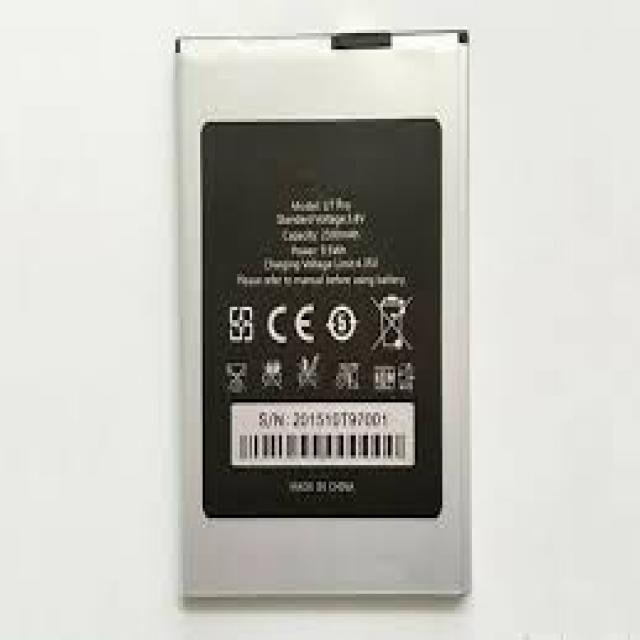battery: (176, 33, 474, 599)
